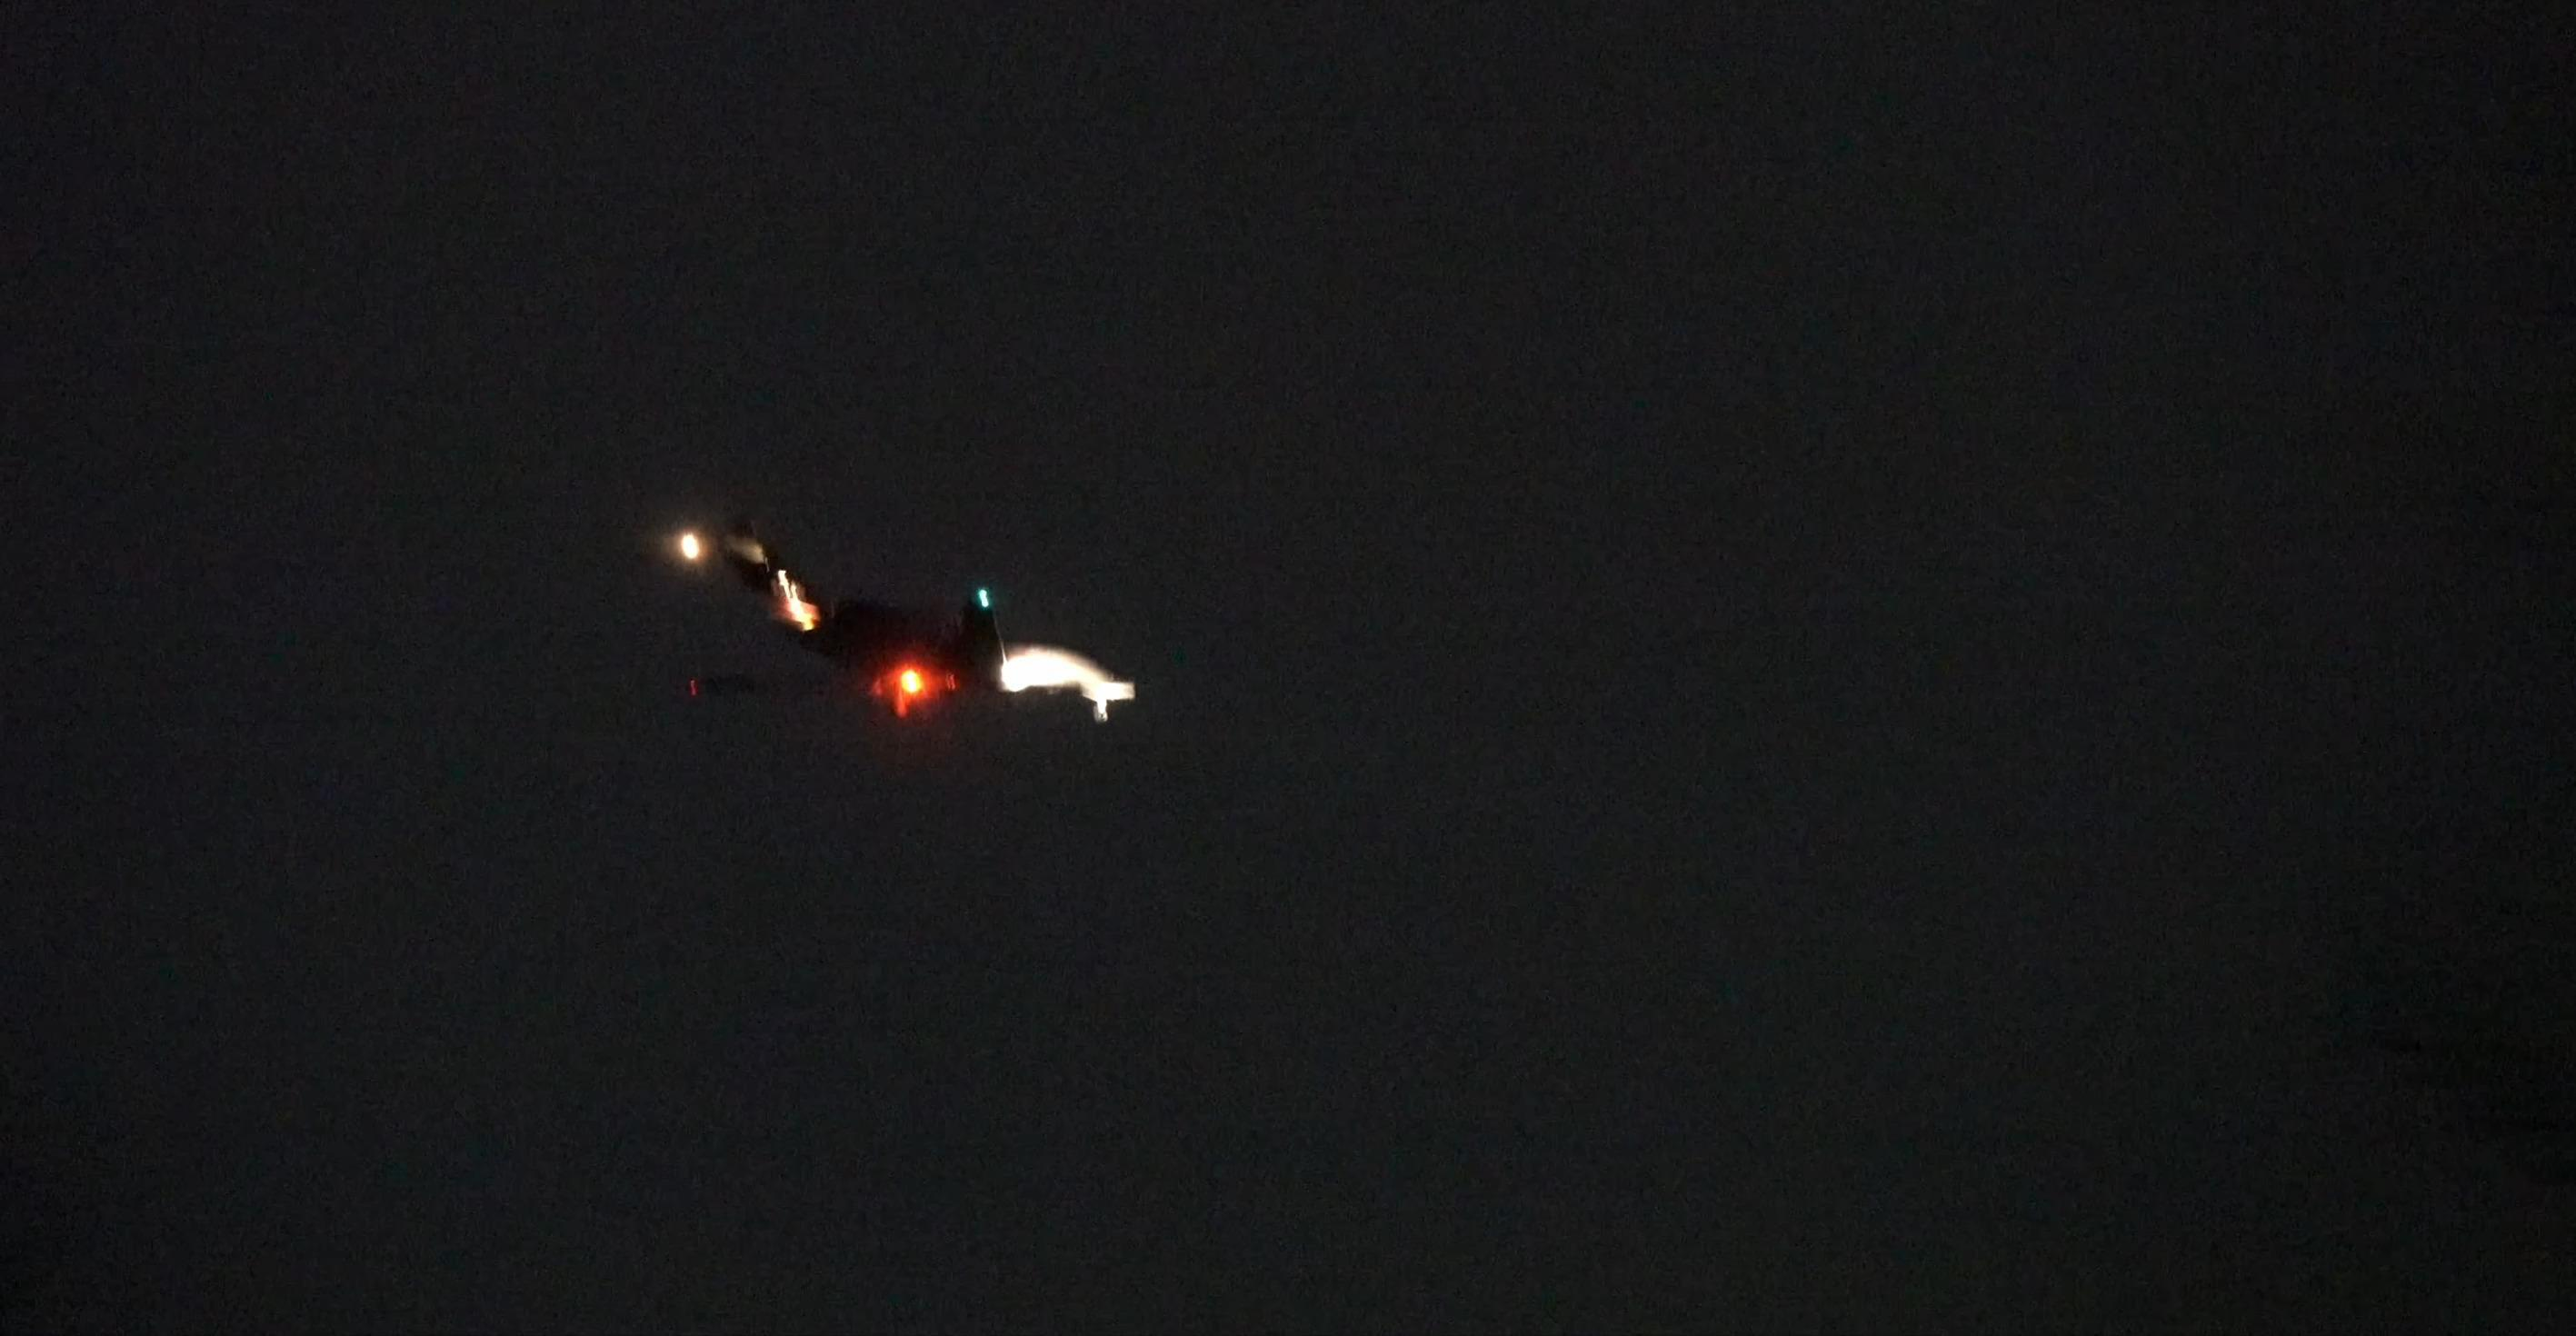Plane: (668, 528, 1160, 746)
